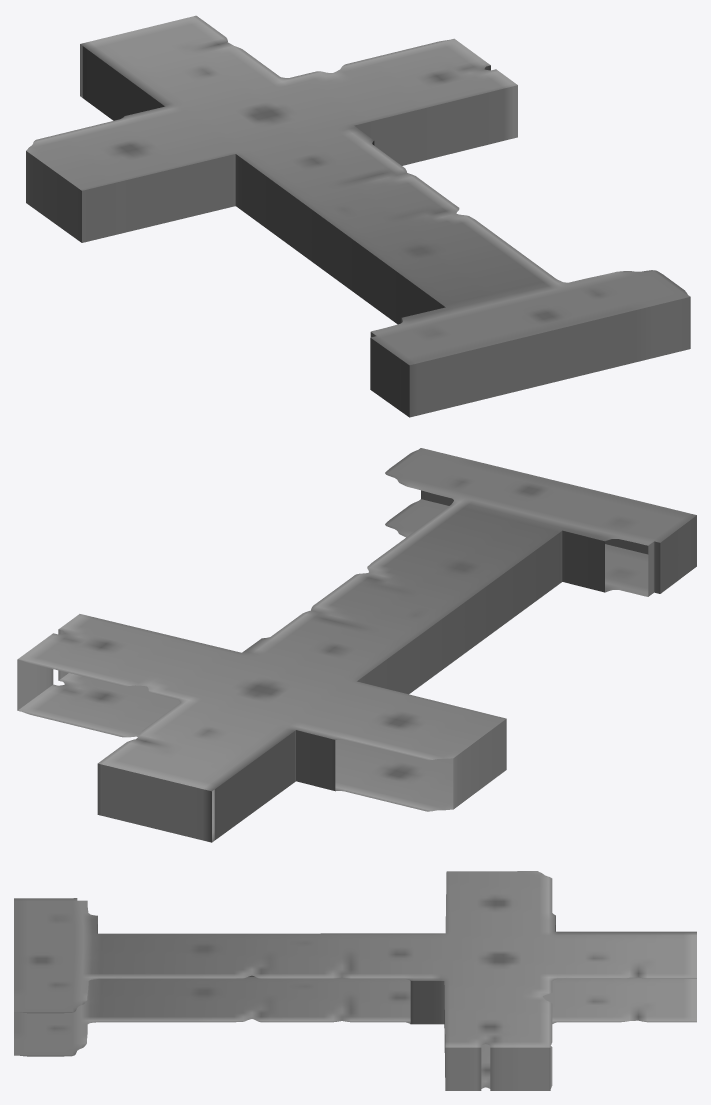
File: tombstone2.fbx
3 views of the same model, one above another, from view 1: azimuth 30°, elevation 25°; view 2: azimuth 150°, elevation 25°; view 3: azimuth 270°, elevation 25° (orthographic). The views are drawn at different scales.
Parts seen in each view (by area): view 1: TombStone (2); view 2: TombStone (2); view 3: TombStone (2).
Part boxes in pixels (box(x1,y1,x2,y2)): TombStone (2): box(26, 15, 690, 417); TombStone (2): box(17, 448, 696, 842); TombStone (2): box(14, 871, 696, 1090).
Size of the model in its own units: 61.19 by 7 by 100.
